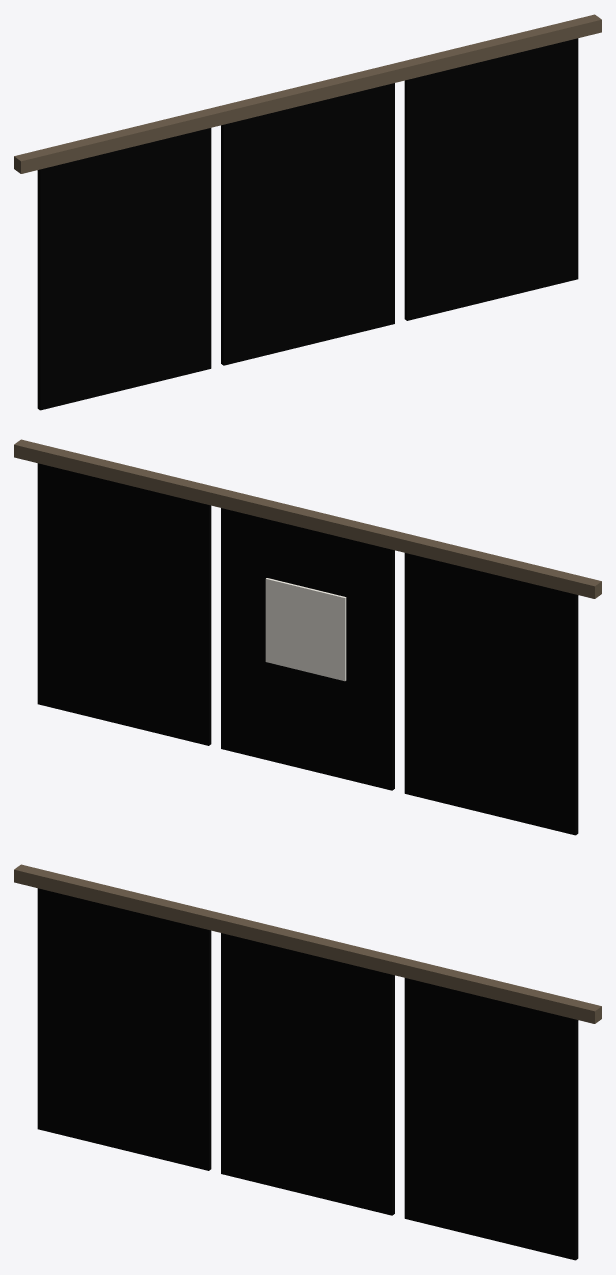
The model's file is Noren.fbx.
The picture shows the model from 3 angles, top to bottom: view 1: azimuth 30°, elevation 25°; view 2: azimuth 150°, elevation 25°; view 3: azimuth 330°, elevation 25°; orthographic projection.
Parts seen in each view (by area): view 1: Cloth, Rod; view 2: Cloth, Rod, Crest; view 3: Cloth, Rod.
Part boxes in pixels (<box>): Cloth: <box>37,38,578,410</box>; Rod: <box>14,14,601,173</box>; Cloth: <box>37,463,578,835</box>; Rod: <box>14,439,601,598</box>; Crest: <box>265,578,346,681</box>; Cloth: <box>37,888,578,1260</box>; Rod: <box>14,864,601,1023</box>.
Size of the model in its own units: 1.9 by 0.8 by 0.04.
